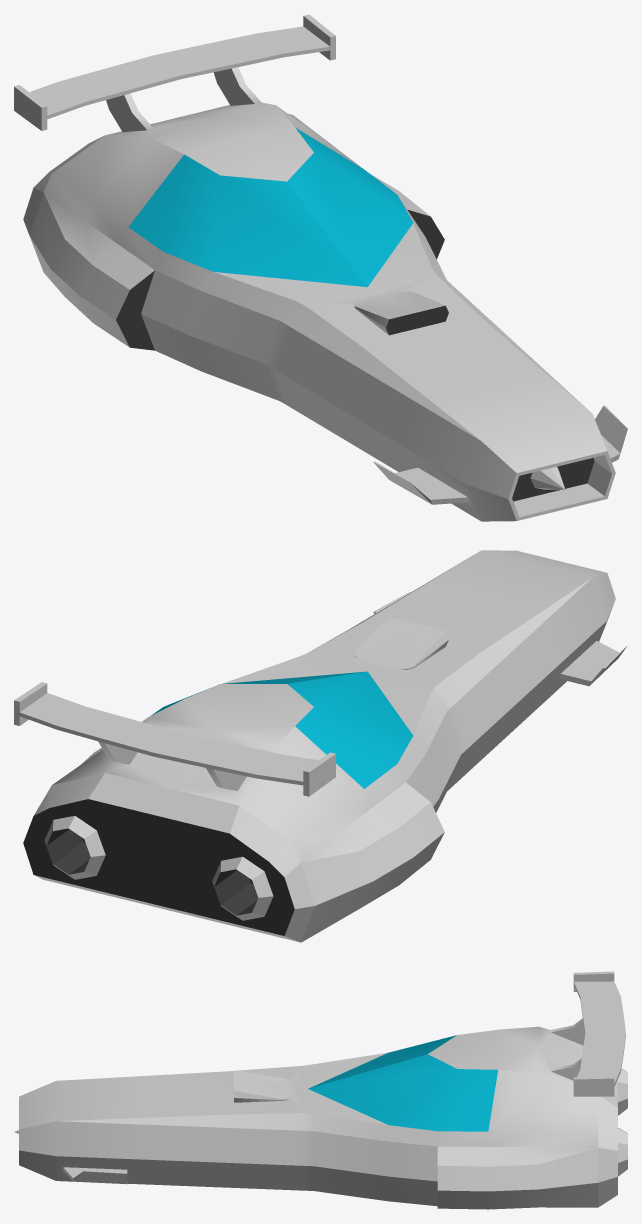
File: Ship5.fbx
3 views of the same model, one above another, from view 1: azimuth 30°, elevation 25°; view 2: azimuth 150°, elevation 25°; view 3: azimuth 270°, elevation 25° (orthographic). The views are drawn at different scales.
Parts seen in each view (by area): view 1: ship5; view 2: ship5; view 3: ship5.
Part boxes in pixels (box(x1,y1,x2,y2)): ship5: box(14, 14, 627, 521); ship5: box(14, 550, 626, 942); ship5: box(14, 971, 627, 1209).
Size of the model in its own units: 1.75 by 0.9153 by 3.75.
